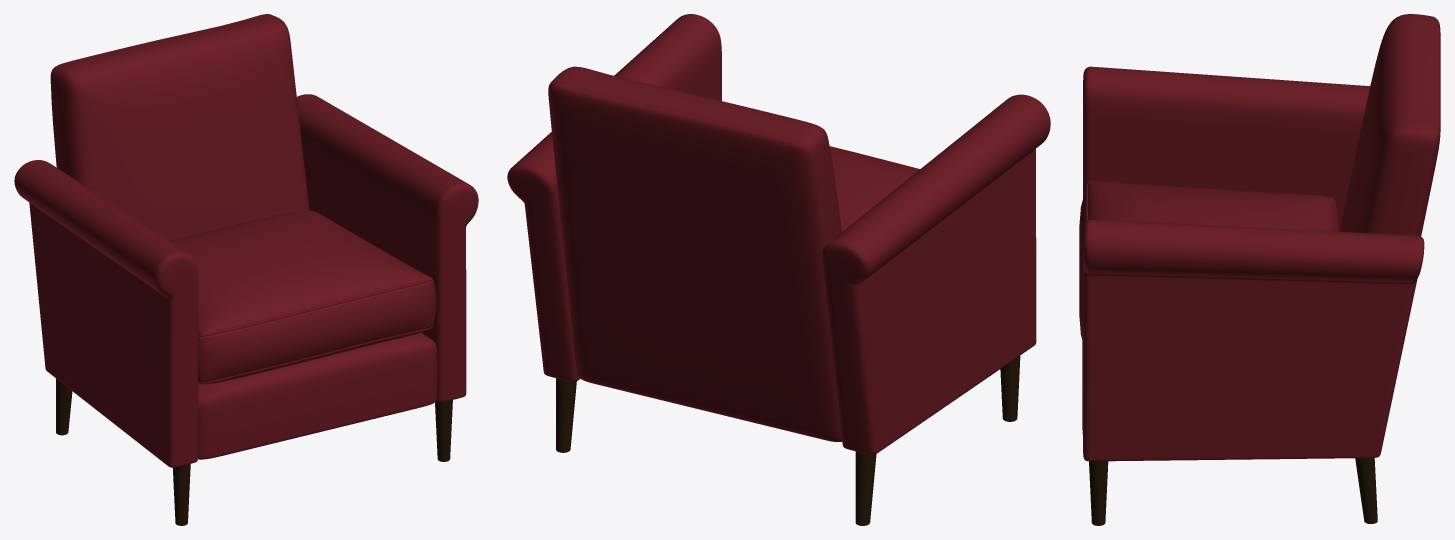
Rendered from Sillon1.obj.
3 renders of one model, left to right at view 1: azimuth 30°, elevation 25°; view 2: azimuth 150°, elevation 25°; view 3: azimuth 270°, elevation 25°, orthographic. The views are drawn at different scales.
Parts seen in each view (by area): view 1: unknown_tuscany_obj; view 2: unknown_tuscany_obj; view 3: unknown_tuscany_obj.
Part boxes in pixels (<box>): unknown_tuscany_obj: <box>14,14,478,525</box>; unknown_tuscany_obj: <box>507,14,1050,525</box>; unknown_tuscany_obj: <box>1079,14,1440,525</box>.
Size of the model in its own units: 103 by 105 by 89.96.
Materials: 2 (2 with a texture image).
